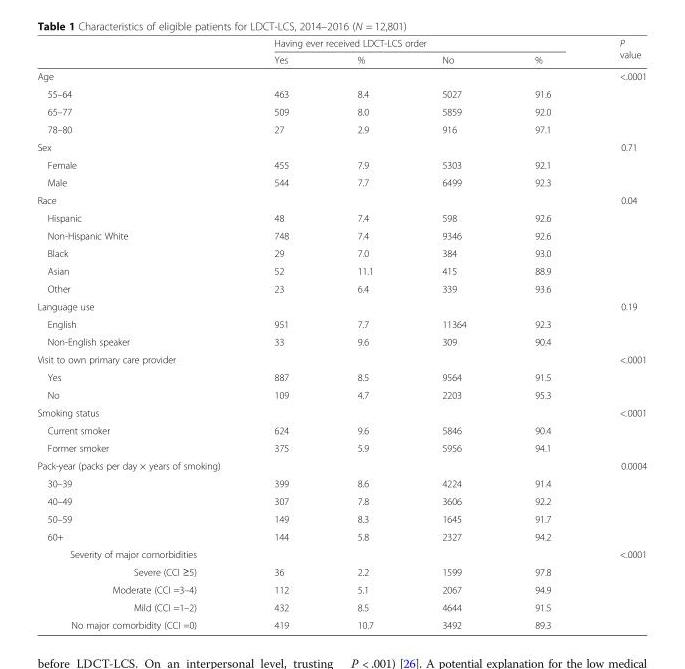table: (36, 37, 646, 630)
table column: (36, 37, 246, 630), (407, 37, 499, 630), (322, 37, 407, 630), (499, 37, 584, 630), (246, 37, 322, 630), (584, 37, 646, 630)
table column header: (36, 37, 646, 67)
table row: (36, 84, 646, 102), (36, 102, 646, 120), (36, 137, 646, 155), (36, 155, 646, 173), (36, 173, 646, 191), (36, 208, 646, 226), (36, 226, 646, 244), (36, 261, 646, 279), (36, 279, 646, 297), (36, 314, 646, 332), (36, 332, 646, 350), (36, 350, 646, 368), (36, 385, 646, 403), (36, 403, 646, 421), (36, 438, 646, 456), (36, 456, 646, 474), (36, 474, 646, 492), (36, 509, 646, 527), (36, 527, 646, 545), (36, 562, 646, 580), (36, 580, 646, 598), (36, 67, 646, 84), (36, 120, 646, 137), (36, 191, 646, 208), (36, 244, 646, 261), (36, 297, 646, 314), (36, 368, 646, 385), (36, 421, 646, 438), (36, 492, 646, 509), (36, 545, 646, 562), (36, 598, 646, 615), (36, 51, 646, 67), (36, 615, 646, 630), (36, 37, 646, 51)
table spanning cell: (246, 37, 584, 51), (584, 37, 646, 67)
